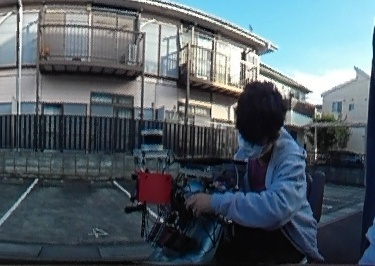person: (212, 85, 322, 266)
